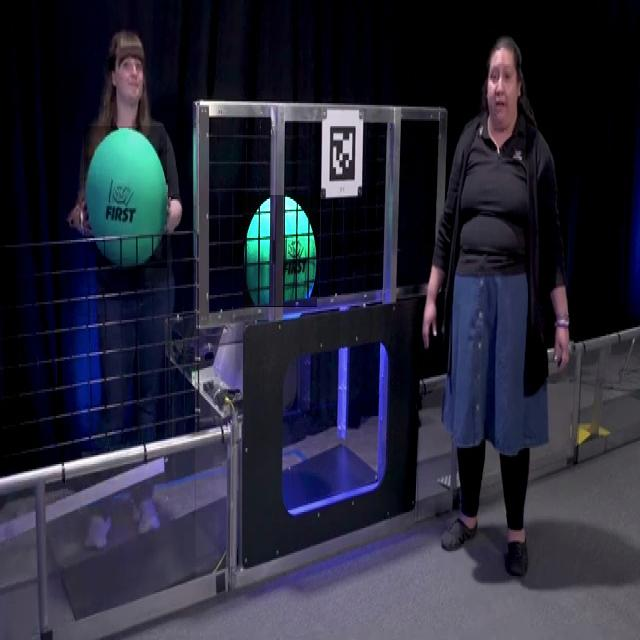Algae: (84, 126, 167, 268), (243, 195, 317, 308)
